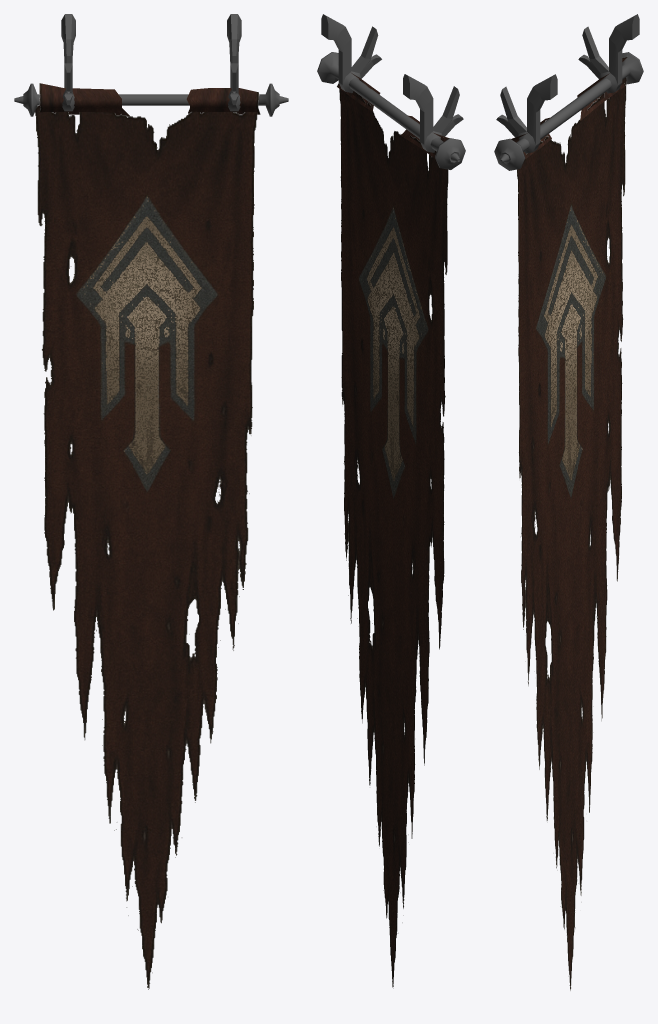
The model's file is Crucible_Banner_C.fbx.
3 renders of one model, left to right at view 1: azimuth 30°, elevation 25°; view 2: azimuth 150°, elevation 25°; view 3: azimuth 270°, elevation 25°, orthographic.
Visible parts, largest first — view 1: Banner_C; view 2: Banner_C; view 3: Banner_C.
Boxes of the visible parts, x1,y1,x2,y2 form: Banner_C: [14, 14, 288, 989]; Banner_C: [317, 14, 465, 988]; Banner_C: [494, 14, 643, 990].
Bounding box in the file's own units: 245 × 1113 × 155.
